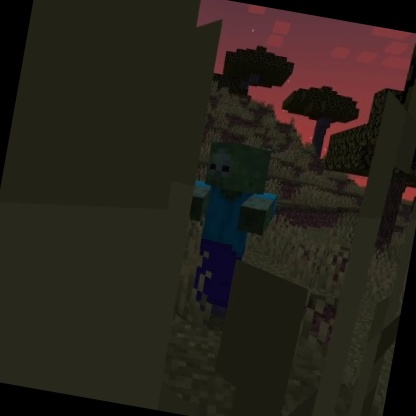zombie: (169, 134, 291, 329)
